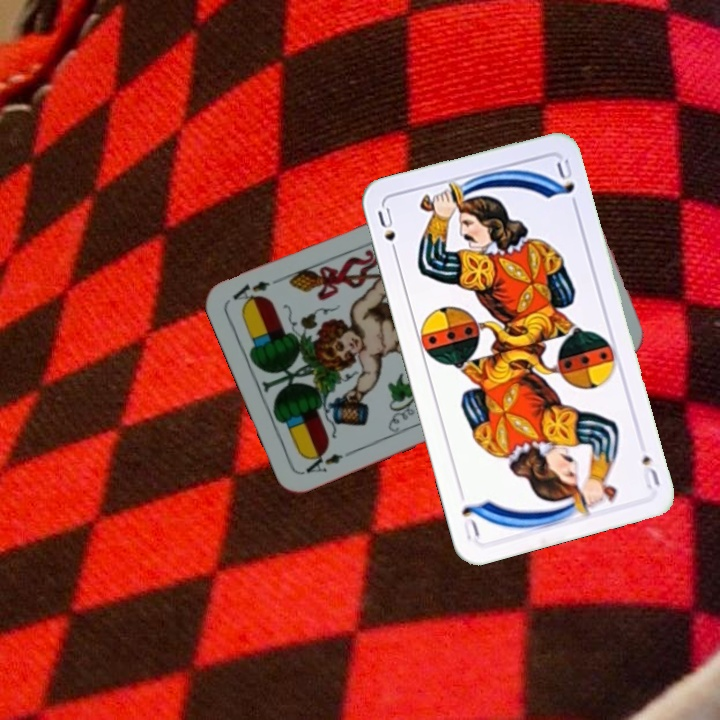EA: (301, 445, 356, 476)
SU: (373, 203, 401, 261), (637, 451, 663, 492)
